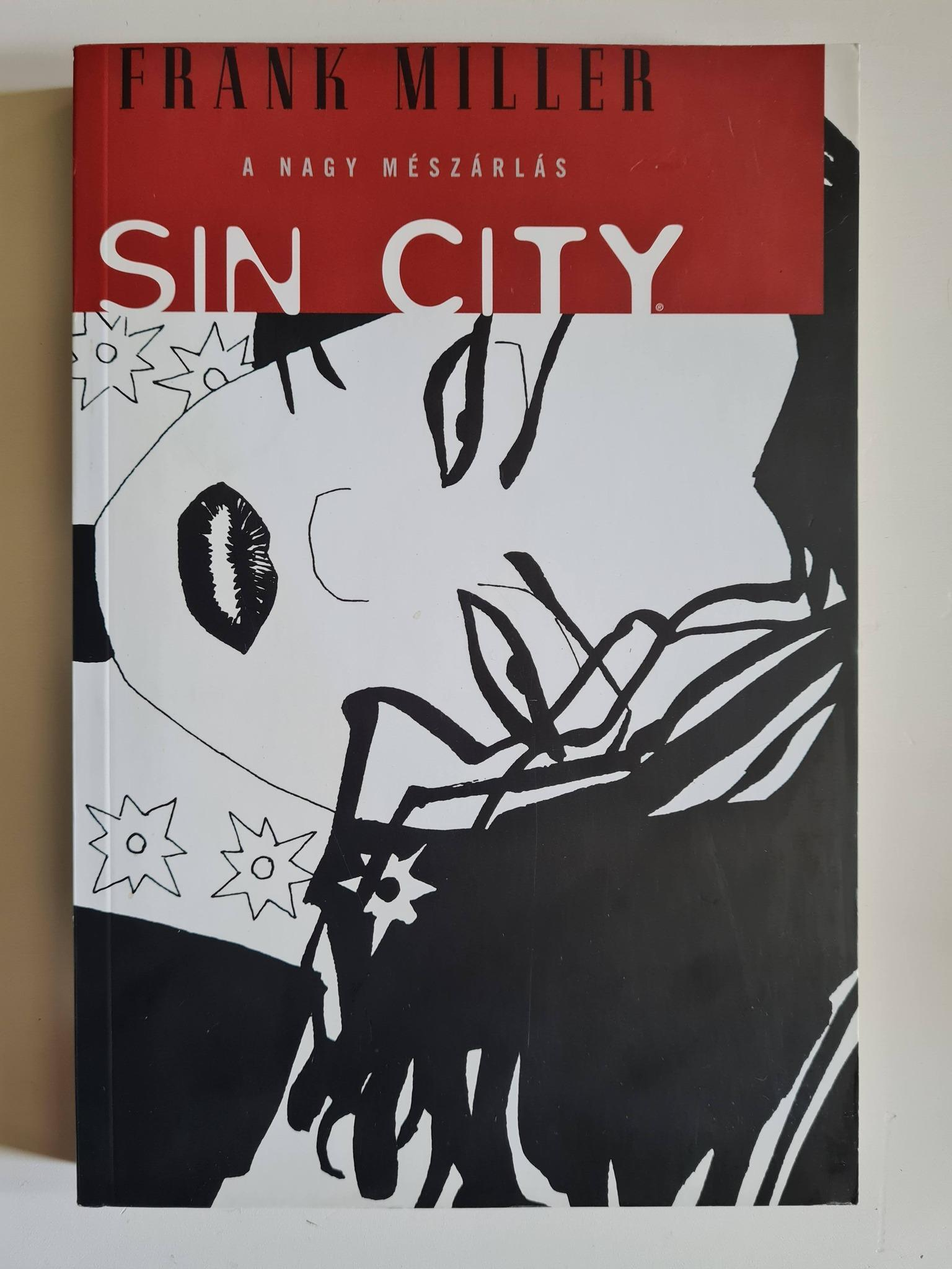comic: (70, 43, 858, 1207)
